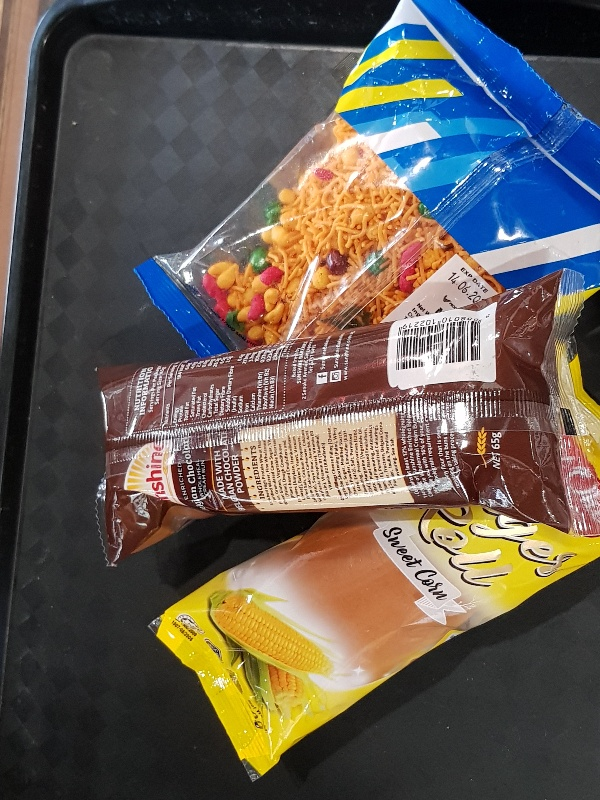Star Tidbits Mixer: (131, 1, 600, 359)
Sunshine Belgium Chocolate Wholemeal Cream Bun: (93, 268, 600, 568)
Tinges Roll Sweet Corn: (143, 355, 600, 785)
